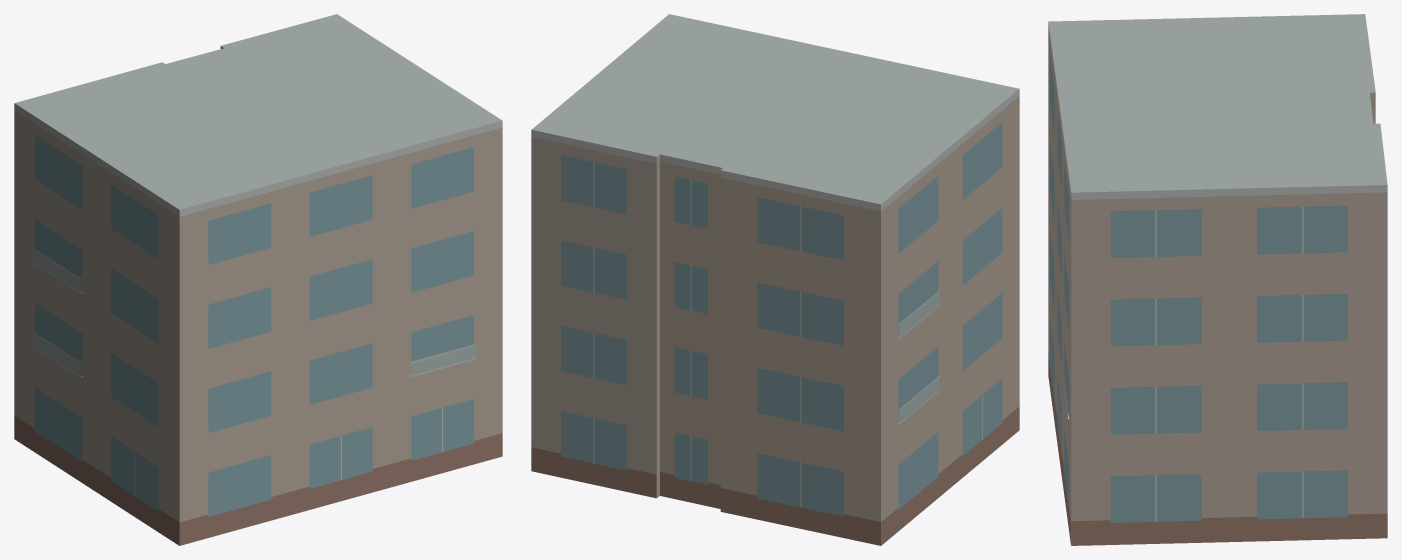
The model's file is survey-upis-32706168.glb.
3 renders of one model, left to right at view 1: azimuth 30°, elevation 25°; view 2: azimuth 150°, elevation 25°; view 3: azimuth 270°, elevation 25°, orthographic. The views are drawn at different scales.
Parts seen in each view (by area): view 1: survey-upis-32706168.tmp; view 2: survey-upis-32706168.tmp; view 3: survey-upis-32706168.tmp.
Boxes of the visible parts, left/top/right/bottom form: survey-upis-32706168.tmp: left=14, top=14, right=502, bottom=545; survey-upis-32706168.tmp: left=531, top=14, right=1019, bottom=545; survey-upis-32706168.tmp: left=1048, top=14, right=1387, bottom=545.
Size of the model in its own units: 12.7 by 11.7 by 10.2.
